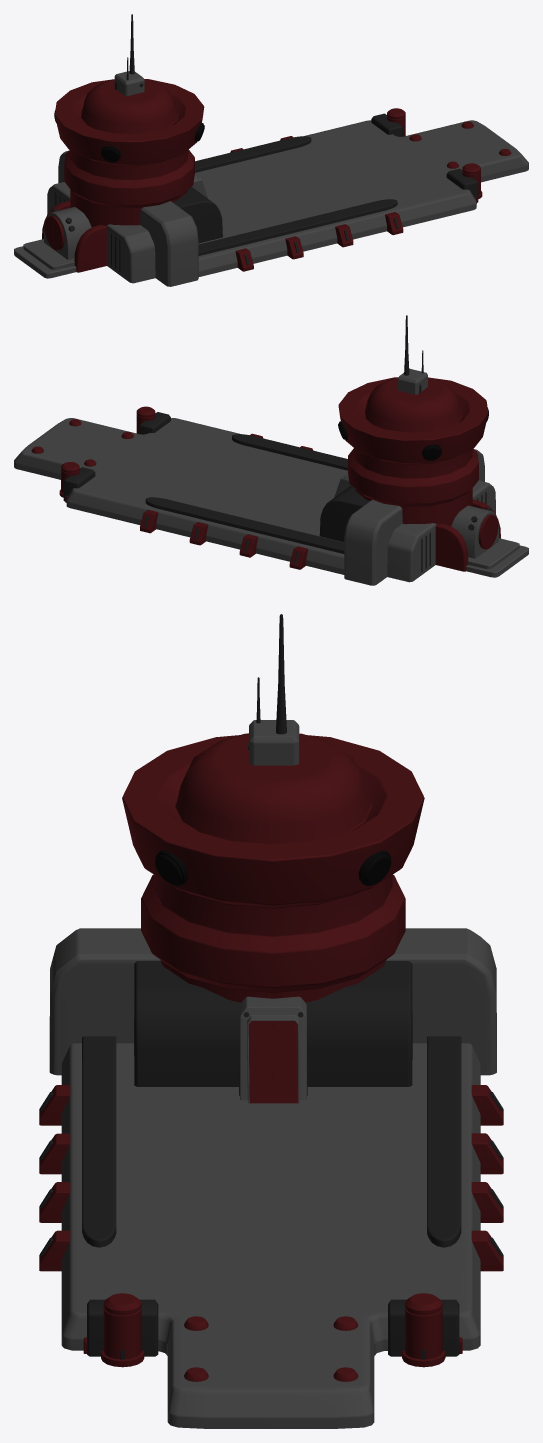
The model's file is colony_Runway strip.glb.
The picture shows the model from 3 angles, top to bottom: view 1: azimuth 30°, elevation 25°; view 2: azimuth 150°, elevation 25°; view 3: azimuth 270°, elevation 25°; orthographic projection. The views are drawn at different scales.
Parts seen in each view (by area): view 1: Runway strip; view 2: Runway strip; view 3: Runway strip.
Boxes of the visible parts, <box> form: Runway strip: <box>14,14,528,286</box>; Runway strip: <box>14,315,528,585</box>; Runway strip: <box>39,614,503,1428</box>.
Size of the model in its own units: 3512 by 1588 by 1481.
1 material, 1 textured.
